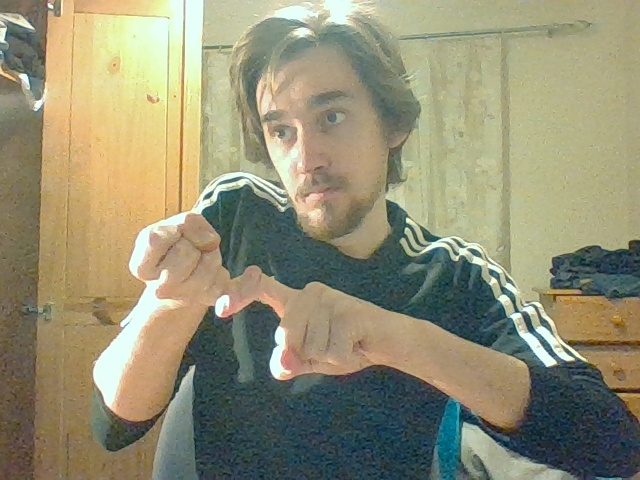step: (131, 211, 358, 379)
